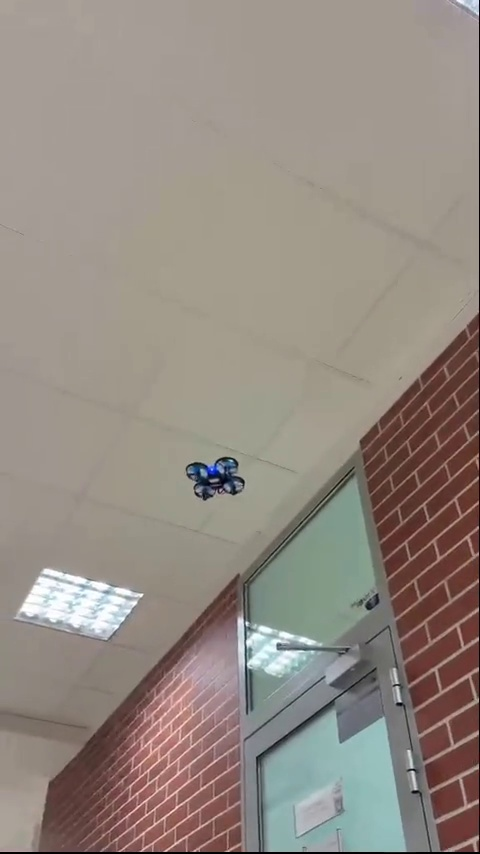drone: (183, 455, 248, 503)
